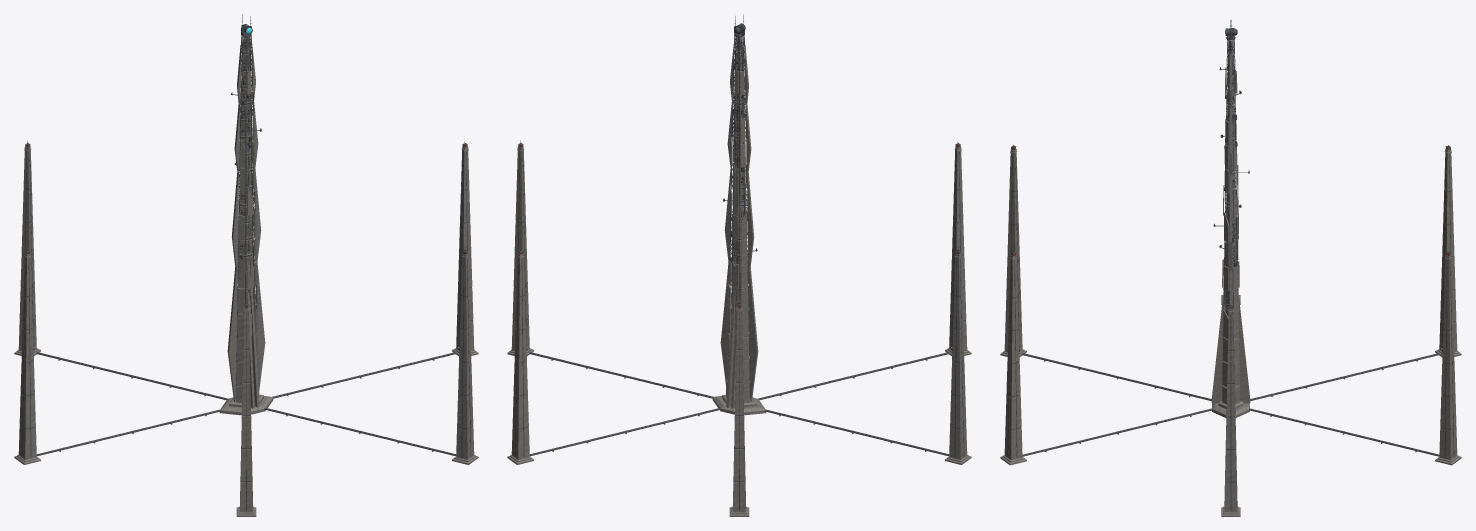
Rendered from ACO_LaserTower.fbx.
3 views of the same model, side by side, from view 1: azimuth 30°, elevation 25°; view 2: azimuth 150°, elevation 25°; view 3: azimuth 270°, elevation 25° (orthographic).
Visible parts, largest first — view 1: LaserTower_Base, LaserTower_Aux2, LaserTower_Aux6, LaserTower_Conduits, LaserTower_Aux1, LaserTower_Aux3, LaserTower_Aux5; view 2: LaserTower_Base, LaserTower_Aux2, LaserTower_Aux4, LaserTower_Conduits, LaserTower_Aux3, LaserTower_Aux1, LaserTower_Aux5; view 3: LaserTower_Base, LaserTower_Aux4, LaserTower_Aux6, LaserTower_Conduits, LaserTower_Aux5, LaserTower_Aux1, LaserTower_Aux3.
Part boxes in pixels (x1=…): LaserTower_Base: x1=219, y1=34, x2=273, y2=415; LaserTower_Aux2: x1=14, y1=253, x2=40, y2=464; LaserTower_Aux6: x1=452, y1=253, x2=478, y2=464; LaserTower_Conduits: x1=36, y1=352, x2=456, y2=456; LaserTower_Aux1: x1=236, y1=306, x2=256, y2=516; LaserTower_Aux3: x1=14, y1=146, x2=40, y2=356; LaserTower_Aux5: x1=452, y1=146, x2=478, y2=356; LaserTower_Base: x1=712, y1=34, x2=766, y2=415; LaserTower_Aux2: x1=945, y1=253, x2=971, y2=464; LaserTower_Aux4: x1=507, y1=253, x2=533, y2=464; LaserTower_Conduits: x1=529, y1=352, x2=949, y2=456; LaserTower_Aux3: x1=729, y1=306, x2=749, y2=516; LaserTower_Aux1: x1=945, y1=146, x2=971, y2=356; LaserTower_Aux5: x1=507, y1=146, x2=533, y2=356; LaserTower_Base: x1=1211, y1=39, x2=1250, y2=417; LaserTower_Aux4: x1=1435, y1=255, x2=1461, y2=465; LaserTower_Aux6: x1=1000, y1=255, x2=1026, y2=465; LaserTower_Conduits: x1=1021, y1=353, x2=1440, y2=456; LaserTower_Aux5: x1=1221, y1=308, x2=1240, y2=516; LaserTower_Aux1: x1=1000, y1=148, x2=1026, y2=356; LaserTower_Aux3: x1=1435, y1=148, x2=1461, y2=356.
Size of the model in its own units: 1018 by 843 by 901.
Materials: 6 (6 with a texture image).
